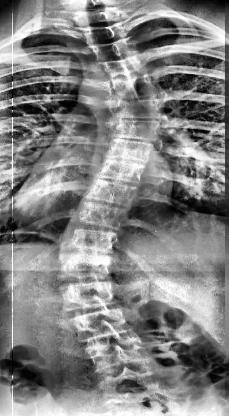Vertebrae: (67, 304, 137, 342), (85, 336, 153, 370), (57, 278, 121, 312), (53, 248, 113, 284), (70, 199, 132, 231), (81, 178, 139, 210), (60, 223, 119, 253), (110, 96, 166, 124), (102, 137, 158, 165), (94, 156, 150, 184), (107, 76, 163, 102), (112, 117, 164, 145), (89, 37, 142, 63), (102, 56, 154, 80), (80, 22, 134, 43), (73, 7, 127, 27)
